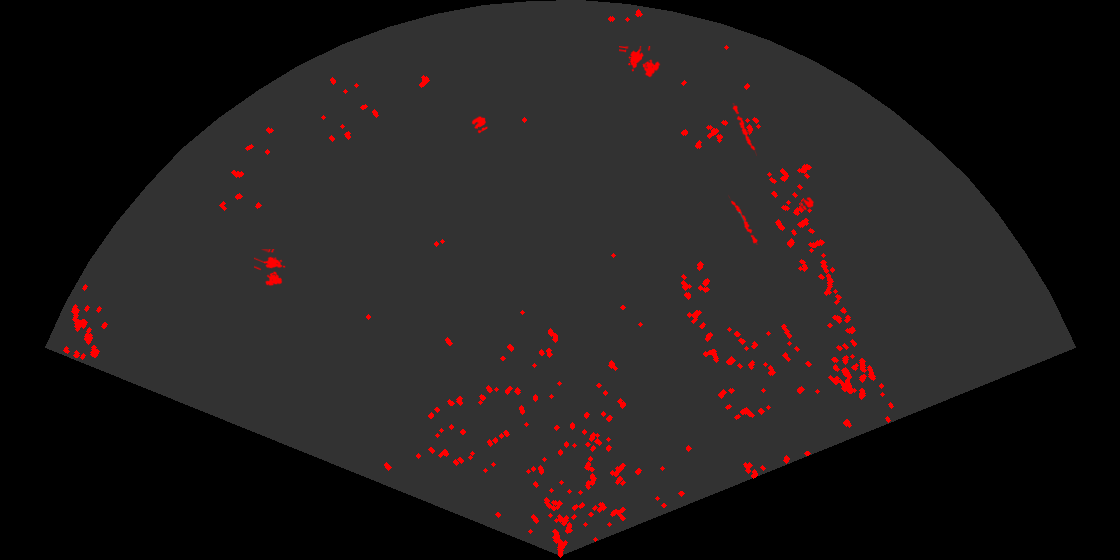ball: (470, 114, 490, 135), (799, 196, 815, 212)
cage: (619, 46, 662, 79), (254, 249, 287, 288)
chain: (728, 194, 760, 245), (731, 103, 757, 156)
